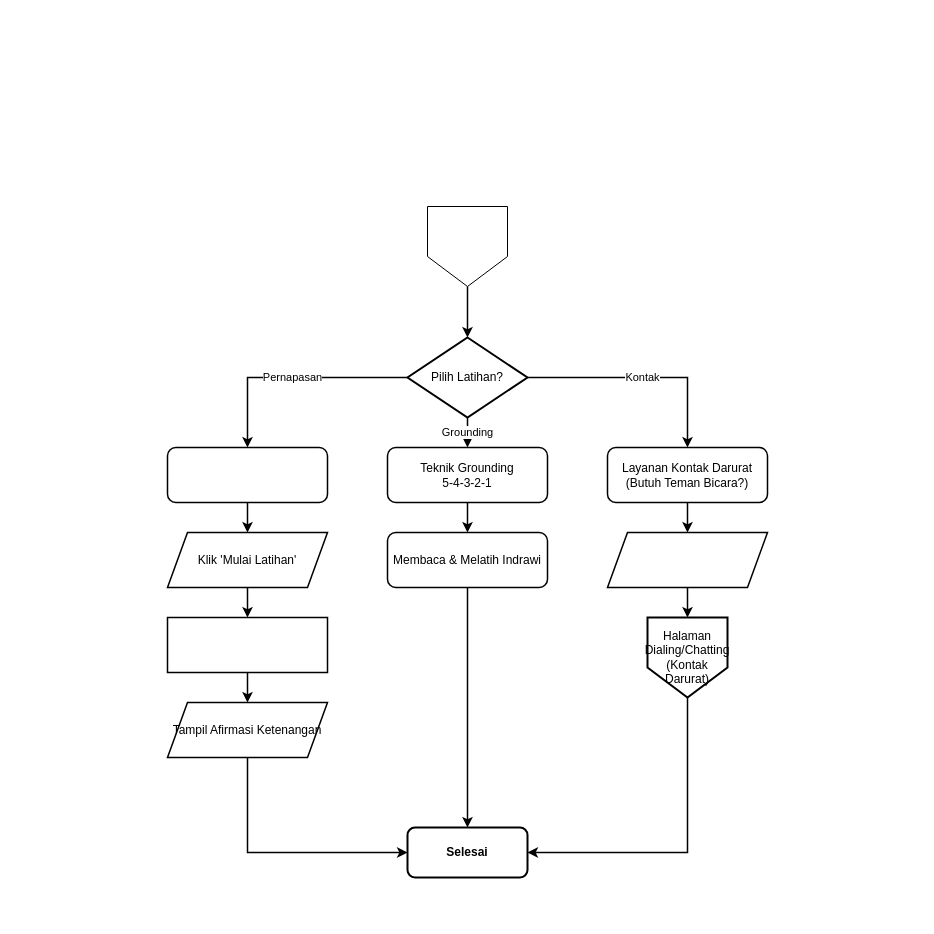
This 934x934 diagram has some shape labels left out. The centre of each missing label's shape, as x and y in pixels:
"Klik Link Kontak Darurat" goes at point (687, 559).
"Latihan Pernapasan (Bernapas Bersama)" goes at point (247, 474).
"Sistem Animasi Breathing Circle (Inhale-Hold-Exhale)" goes at point (247, 644).
"Tampil Pilihan Relaksasi" goes at point (467, 246).
